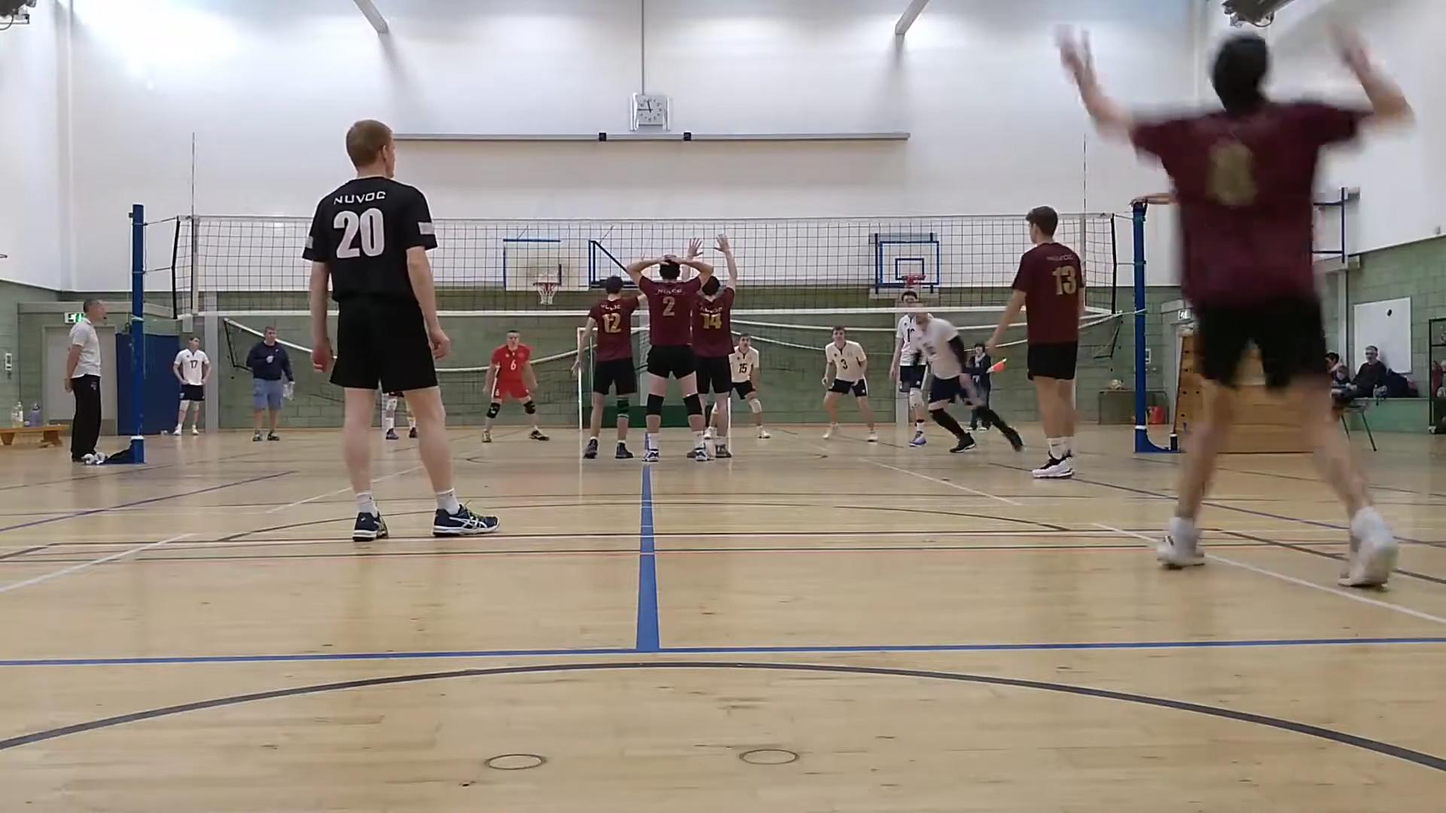battuta: (1052, 0, 1415, 592)
